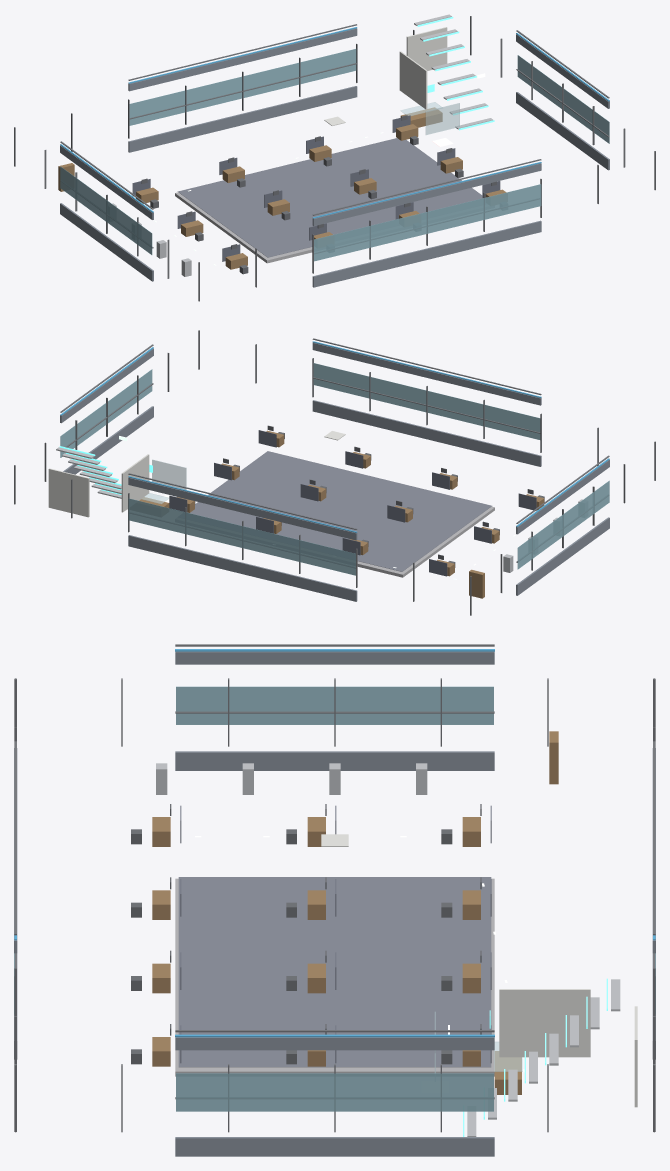
Rendered from Floor_02_Office.fbx.
The picture shows the model from 3 angles, top to bottom: view 1: azimuth 30°, elevation 25°; view 2: azimuth 150°, elevation 25°; view 3: azimuth 270°, elevation 25°; orthographic projection. The views are drawn at different scales.
Parts seen in each view (by area): view 1: Floor_02_Office; view 2: Floor_02_Office; view 3: Floor_02_Office.
Boxes of the visible parts, x1,y1,x2,y2 form: Floor_02_Office: [14, 14, 655, 301]; Floor_02_Office: [14, 330, 655, 615]; Floor_02_Office: [14, 644, 655, 1156].
Size of the model in its own units: 2007 by 345 by 1407.
